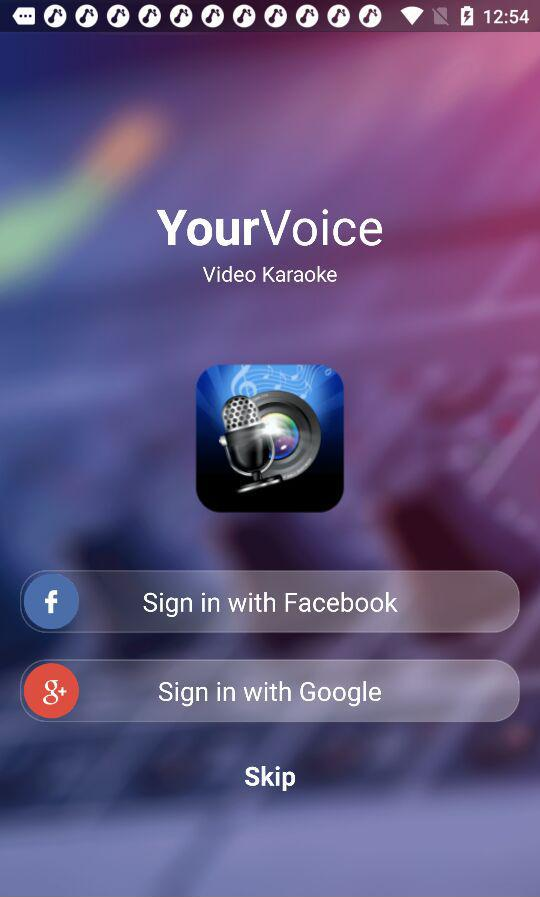Image: (195, 363, 345, 514)
Text: (157, 209, 384, 248), (202, 266, 338, 284), (244, 765, 297, 792)
TextButton: (20, 569, 521, 634), (20, 659, 521, 723)
UpperTaskBar: (1, 1, 540, 33)
